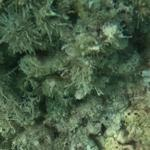dead: (2, 1, 145, 148)
